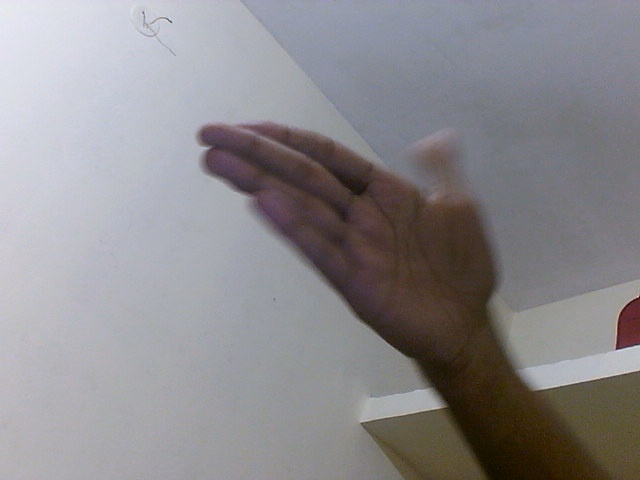hand: (197, 111, 503, 378)
